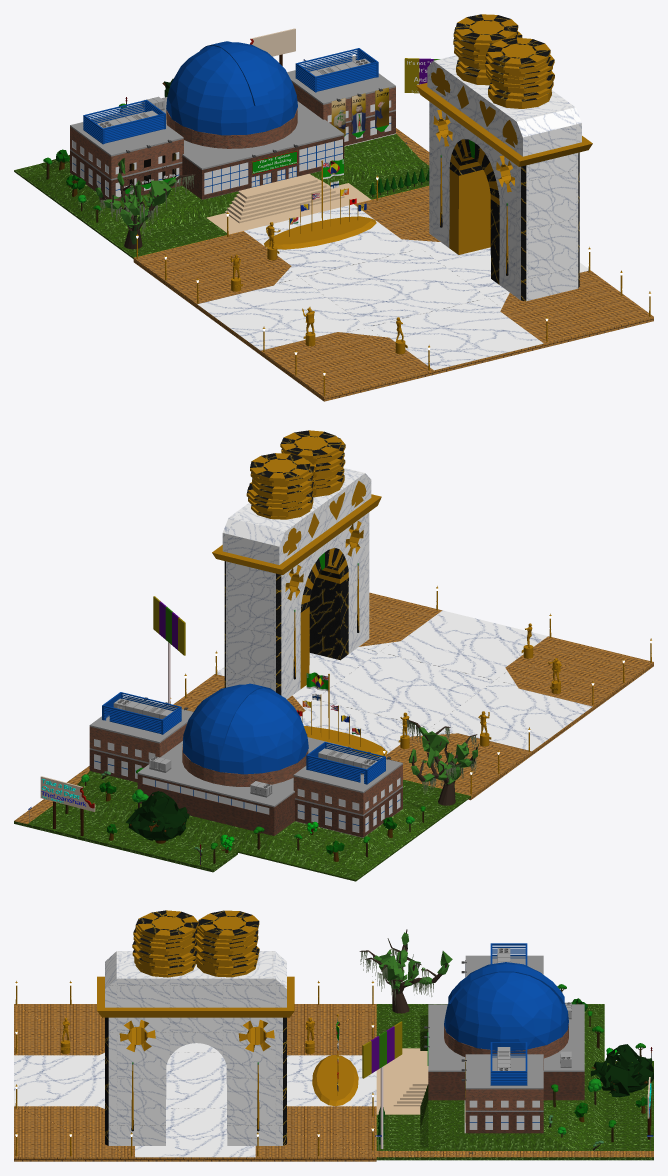
Rendered from Capitol.glb.
The picture shows the model from 3 angles, top to bottom: view 1: azimuth 30°, elevation 25°; view 2: azimuth 150°, elevation 25°; view 3: azimuth 270°, elevation 25°; orthographic projection. The views are drawn at different scales.
Visible parts, largest first — view 1: Square, Arc, Ground, Observatory Top, Chips Arc, Roof.001, Screenwalls, Flr.001, Leaves, Wall.002, Stairs, Banners (+12 smaller); view 2: Square, Arc, Ground, Observatory Top, Chips Arc, Leaves, Road, Roof.001, Flr.001, Screenwalls, Wall.003, Flr.002 (+9 smaller); view 3: Square, Arc, Ground, Observatory Top, Chips Arc, Roof.001, Road, Leaves, Flr.002, Wall.001, Flagstand, Stairs (+7 smaller).
Boxes of the visible parts, x1,y1,x2,y2 form: Square: (133,186,653,401); Arc: (416,55,592,301); Ground: (14,134,429,258); Observatory Top: (166,42,297,135); Chips Arc: (453,14,554,108); Roof.001: (70,55,395,169); Screenwalls: (83,48,378,144); Flr.001: (70,127,182,200); Leaves: (43,78,429,238); Wall.002: (201,135,344,199); Stairs: (225,173,344,223); Banners: (120,87,388,194); Square: (171,592,653,800); Arc: (212,468,381,699); Ground: (52,771,470,881); Observatory Top: (183,684,308,774); Chips Arc: (246,430,345,519); Leaves: (81,720,477,854); Road: (14,766,237,872); Roof.001: (89,697,402,807); Flr.001: (295,764,402,837); Screenwalls: (102,692,385,784); Wall.003: (137,774,274,835); Flr.002: (89,726,157,782); Square: (14,1004,376,1161); Arc: (97,951,294,1145); Ground: (376,1004,604,1150); Observatory Top: (444,962,568,1050); Chips Arc: (132,910,259,977); Roof.001: (428,955,584,1089); Road: (376,1061,653,1160); Leaves: (360,932,653,1146); Flr.002: (465,1089,543,1133); Wall.001: (429,1056,583,1100); Flagstand: (312,1055,358,1106); Stairs: (393,1051,428,1106).
Size of the model in its own units: 76.98 by 45.99 by 125.
78 materials, 16 textured.
